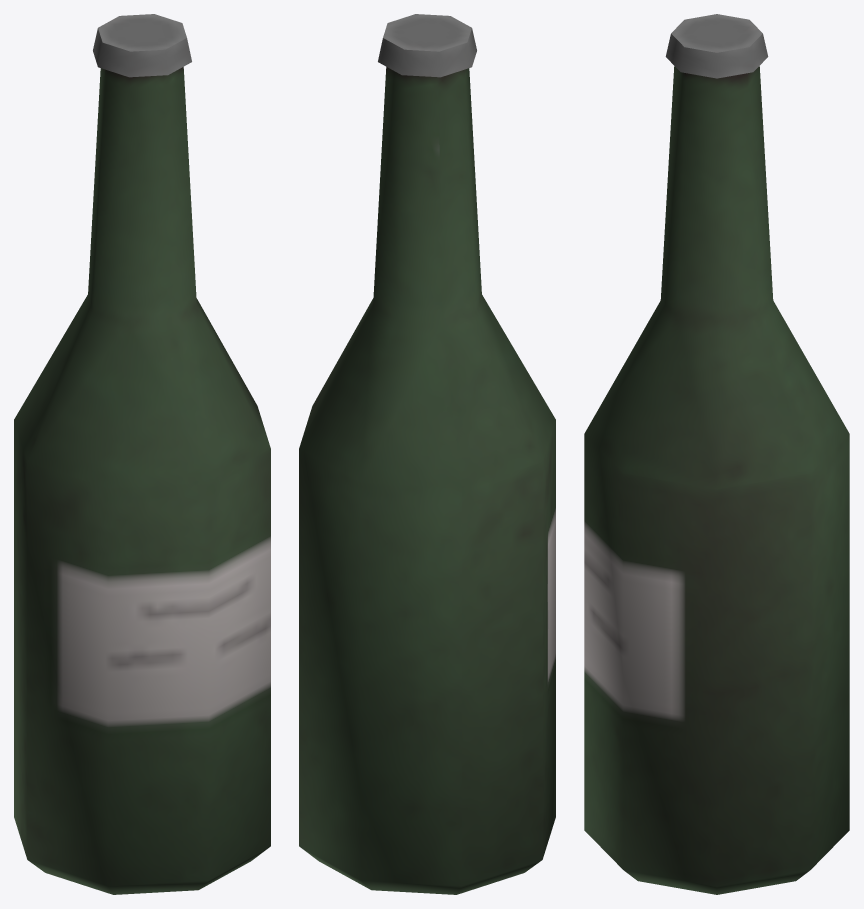
The model's file is SM_Props_Food_05.glb.
3 renders of one model, left to right at view 1: azimuth 30°, elevation 25°; view 2: azimuth 150°, elevation 25°; view 3: azimuth 270°, elevation 25°, orthographic.
Parts seen in each view (by area): view 1: SM_Props_Food_05; view 2: SM_Props_Food_05; view 3: SM_Props_Food_05.
Boxes of the visible parts, <box> form: SM_Props_Food_05: <box>14,14,270,894</box>; SM_Props_Food_05: <box>299,14,555,894</box>; SM_Props_Food_05: <box>584,14,849,894</box>.
Bounding box in the file's own units: 0.0805 × 0.2728 × 0.0805.
1 material, 1 textured.
